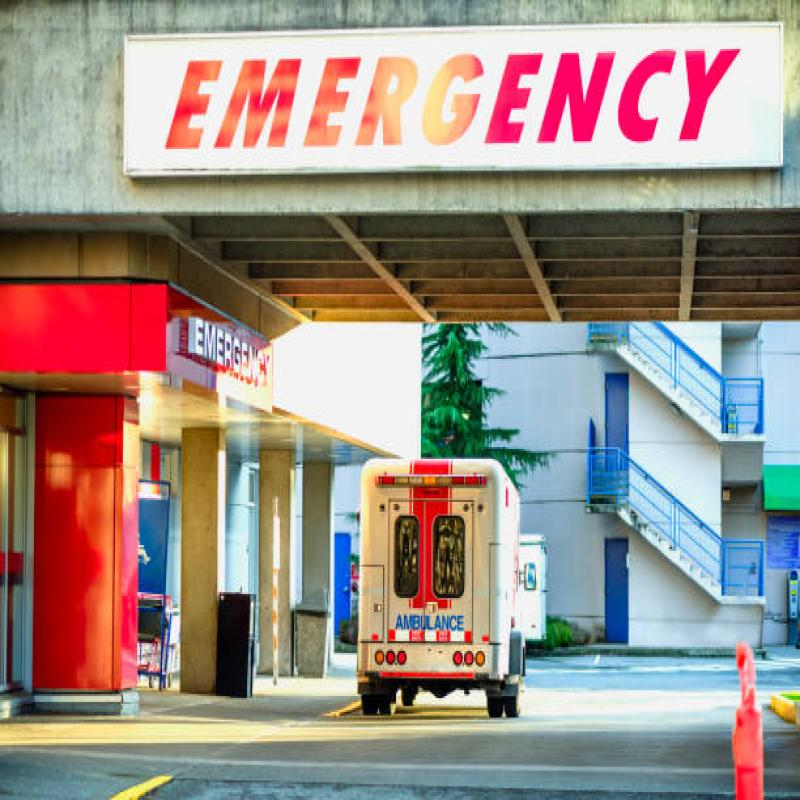ambulance: (344, 439, 549, 710)
